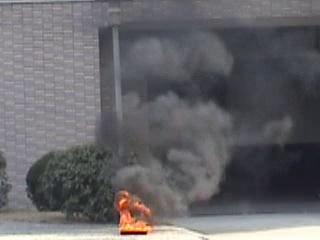smoke: (109, 37, 231, 191)
